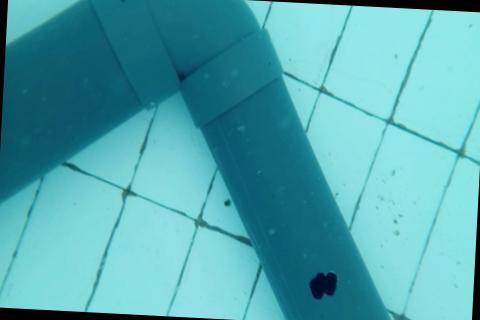kebocoran: (307, 270, 338, 301)
